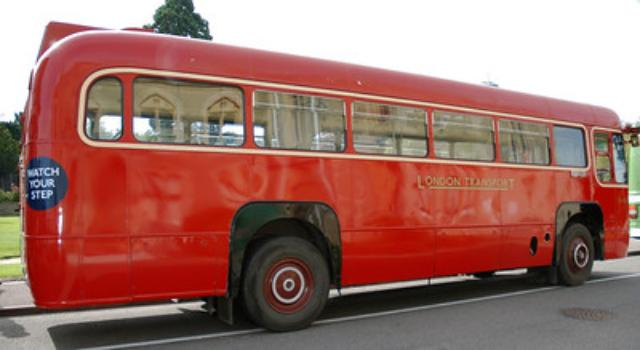bus: (19, 19, 630, 331)
